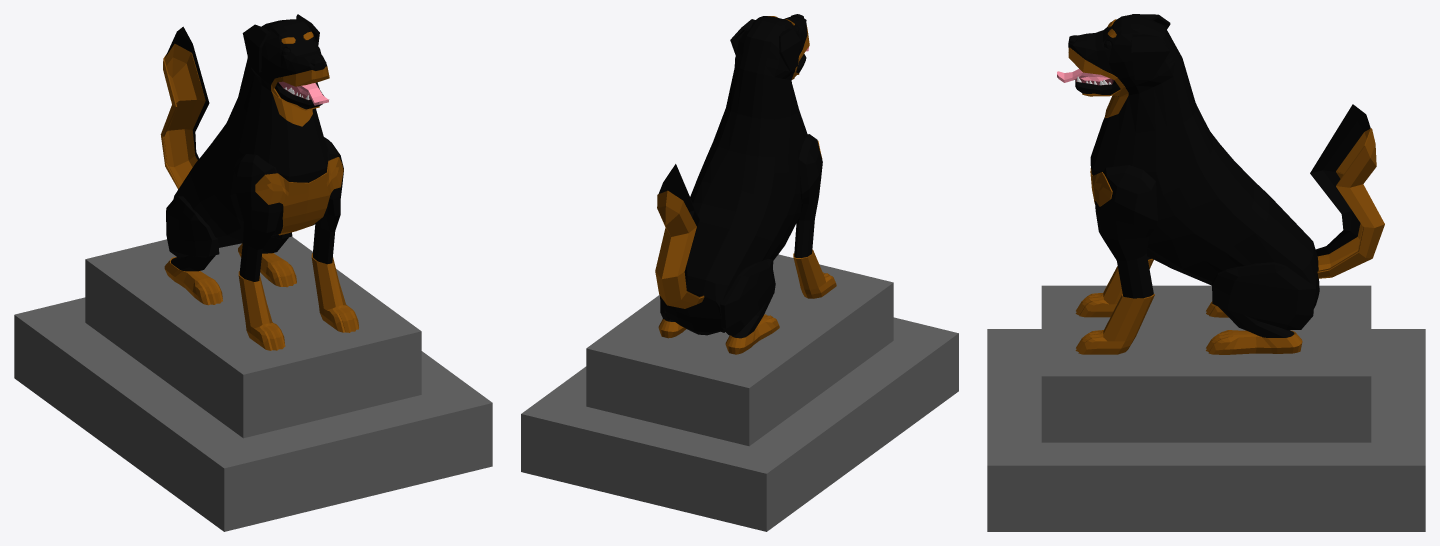
The model's file is Rambo.gltf.
The picture shows the model from 3 angles, left to right: view 1: azimuth 30°, elevation 25°; view 2: azimuth 150°, elevation 25°; view 3: azimuth 270°, elevation 25°; orthographic projection. The views are drawn at different scales.
Parts seen in each view (by area): view 1: Plane.007; view 2: Plane.007; view 3: Plane.007.
Part boxes in pixels (x1=…): Plane.007: x1=14, y1=14, x2=492, y2=531; Plane.007: x1=521, y1=14, x2=958, y2=531; Plane.007: x1=987, y1=14, x2=1425, y2=531.
Size of the model in its own units: 4.42 by 6.68 by 5.99.
